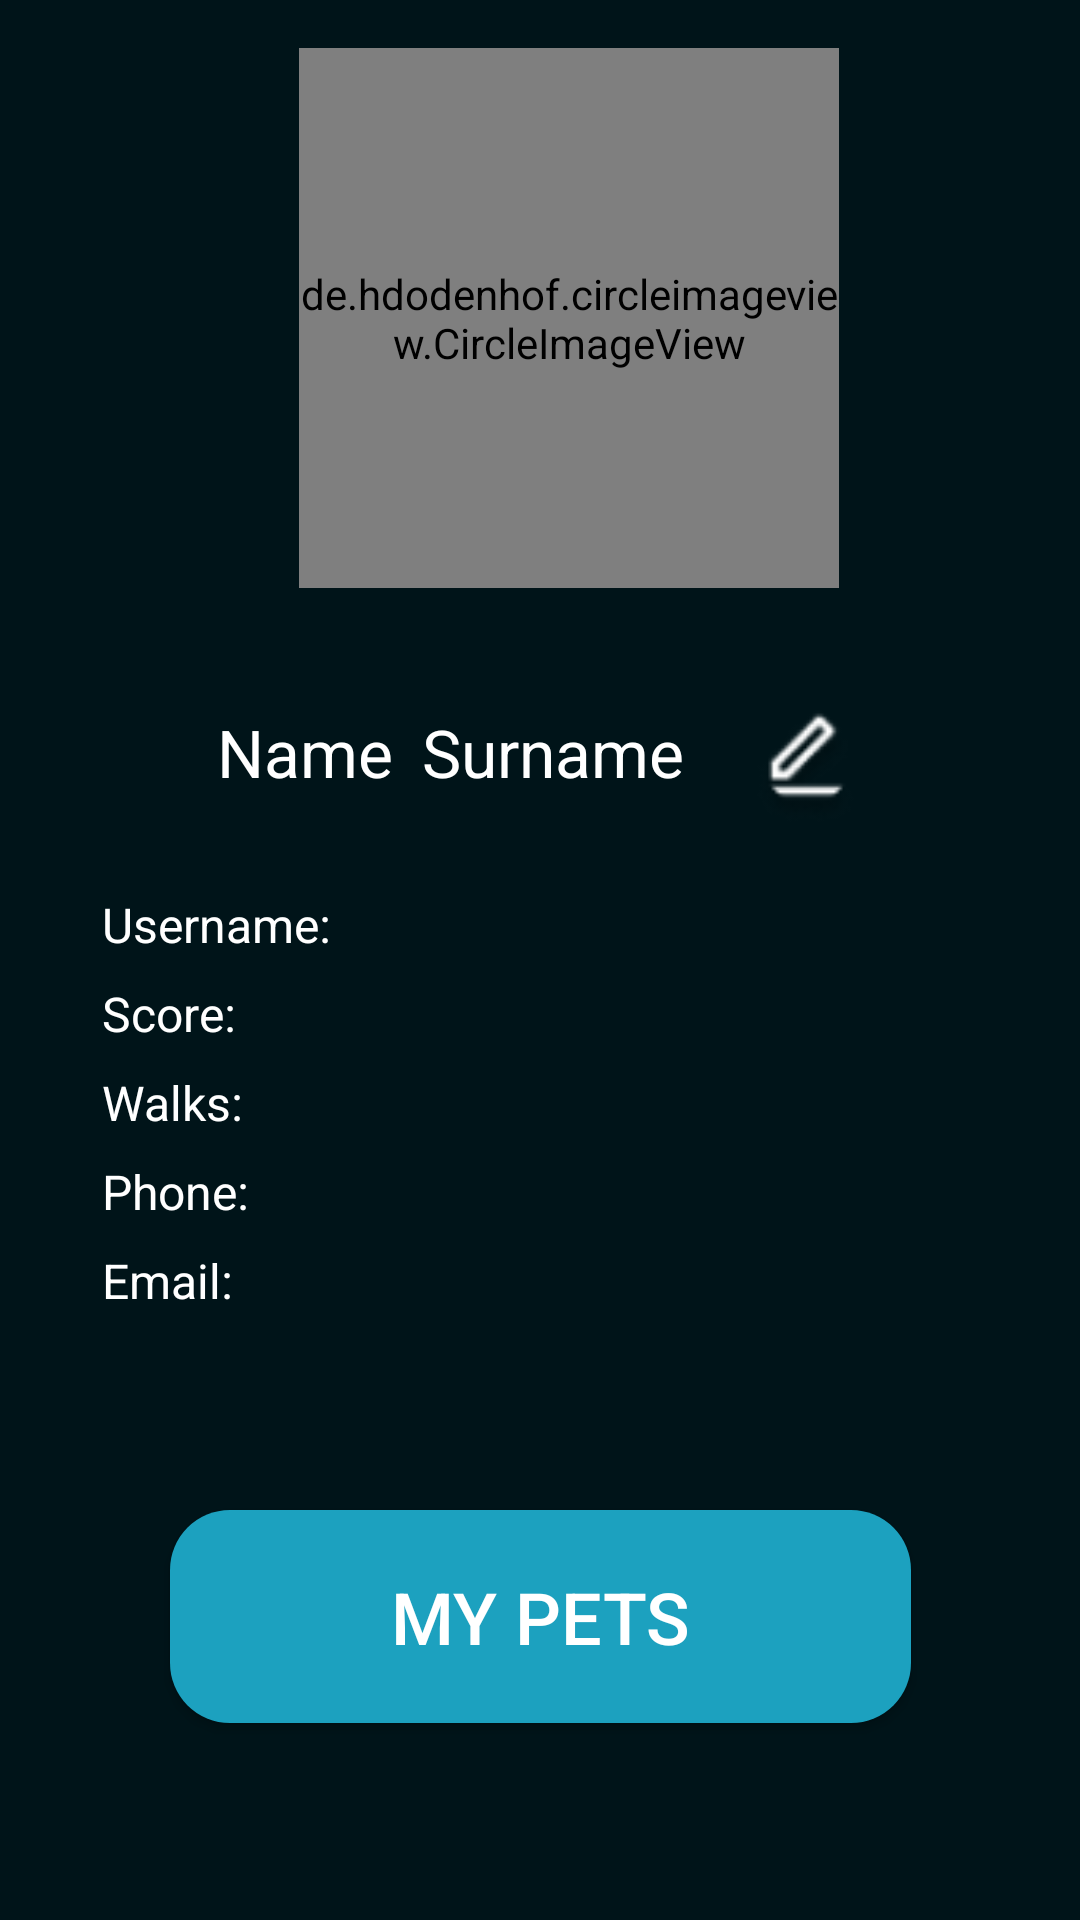

Icons on this 1080 x 1920 Android screen, each with the point to tap as (x=x, y=y):
user edit: (x=806, y=755)
